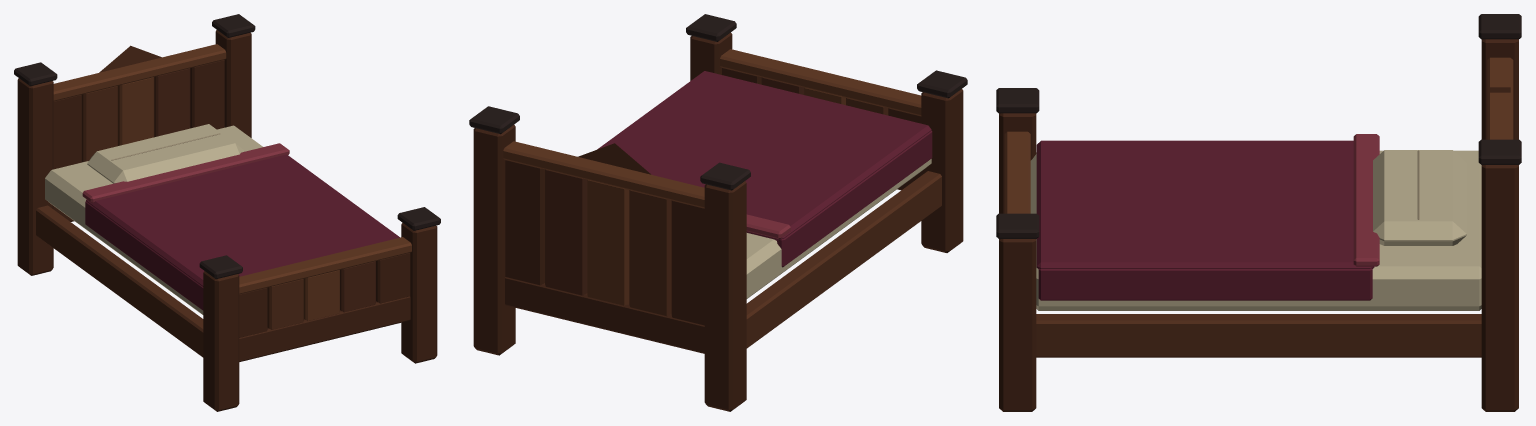
Rendered from InnSingleBed.glb.
3 renders of one model, left to right at view 1: azimuth 30°, elevation 25°; view 2: azimuth 150°, elevation 25°; view 3: azimuth 270°, elevation 25°, orthographic. The views are drawn at different scales.
Parts seen in each view (by area): view 1: BurgundyCoverlet, SideRail, BedPost.001, Pillow, BedPost, EndRail, BedPost.002, Mattress, TopRail.001, TopRail, CoverletSideDrop, BedPost.003 (+16 smaller); view 2: BurgundyCoverlet, BedPost.001, SideRail, BedPost.003, EndRail.001, BedPost, HeadPlank.001, HeadPlank.003, HeadPlank.002, HeadPlank.004, CoverletSideDrop, TopRail.001 (+10 smaller); view 3: BurgundyCoverlet, SideRail.001, Mattress, CoverletSideDrop.001, BedPost.003, Pillow, BedPost.002, FoldedBlanketEdge, TopRail, TopRail.001, BedPost.001, BedPost (+4 smaller).
Boxes of the visible parts, x1,y1,x2,y2 form: BurgundyCoverlet: [86, 154, 399, 286]; SideRail: [36, 205, 203, 357]; BedPost.001: [17, 78, 53, 275]; Pillow: [87, 124, 244, 183]; BedPost: [203, 271, 239, 411]; EndRail: [239, 296, 410, 361]; BedPost.002: [401, 222, 437, 363]; Mattress: [45, 125, 262, 314]; TopRail.001: [53, 44, 226, 101]; TopRail: [239, 237, 411, 294]; CoverletSideDrop: [85, 201, 203, 310]; BedPost.003: [215, 30, 251, 137]; BurgundyCoverlet: [597, 71, 931, 240]; BedPost.001: [704, 181, 746, 411]; SideRail: [746, 171, 941, 348]; BedPost.003: [473, 125, 515, 355]; EndRail.001: [505, 277, 704, 353]; BedPost: [921, 89, 963, 252]; HeadPlank.001: [629, 190, 671, 316]; HeadPlank.003: [545, 169, 587, 295]; HeadPlank.002: [587, 180, 629, 305]; HeadPlank.004: [505, 160, 544, 285]; CoverletSideDrop: [777, 130, 932, 267]; TopRail.001: [503, 141, 704, 208]; BurgundyCoverlet: [1036, 140, 1374, 268]; SideRail.001: [1036, 314, 1481, 357]; Mattress: [1030, 150, 1481, 310]; CoverletSideDrop.001: [1038, 268, 1372, 300]; BedPost.003: [1481, 165, 1518, 411]; Pillow: [1373, 150, 1466, 245]; BedPost.002: [999, 239, 1036, 411]; FoldedBlanketEdge: [1353, 134, 1379, 266]; TopRail: [1004, 131, 1030, 213]; TopRail.001: [1487, 57, 1513, 139]; BedPost.001: [1481, 39, 1518, 139]; BedPost: [999, 113, 1036, 213].
Bounding box in the file's own units: 4.58 × 3.84 × 7.08.
